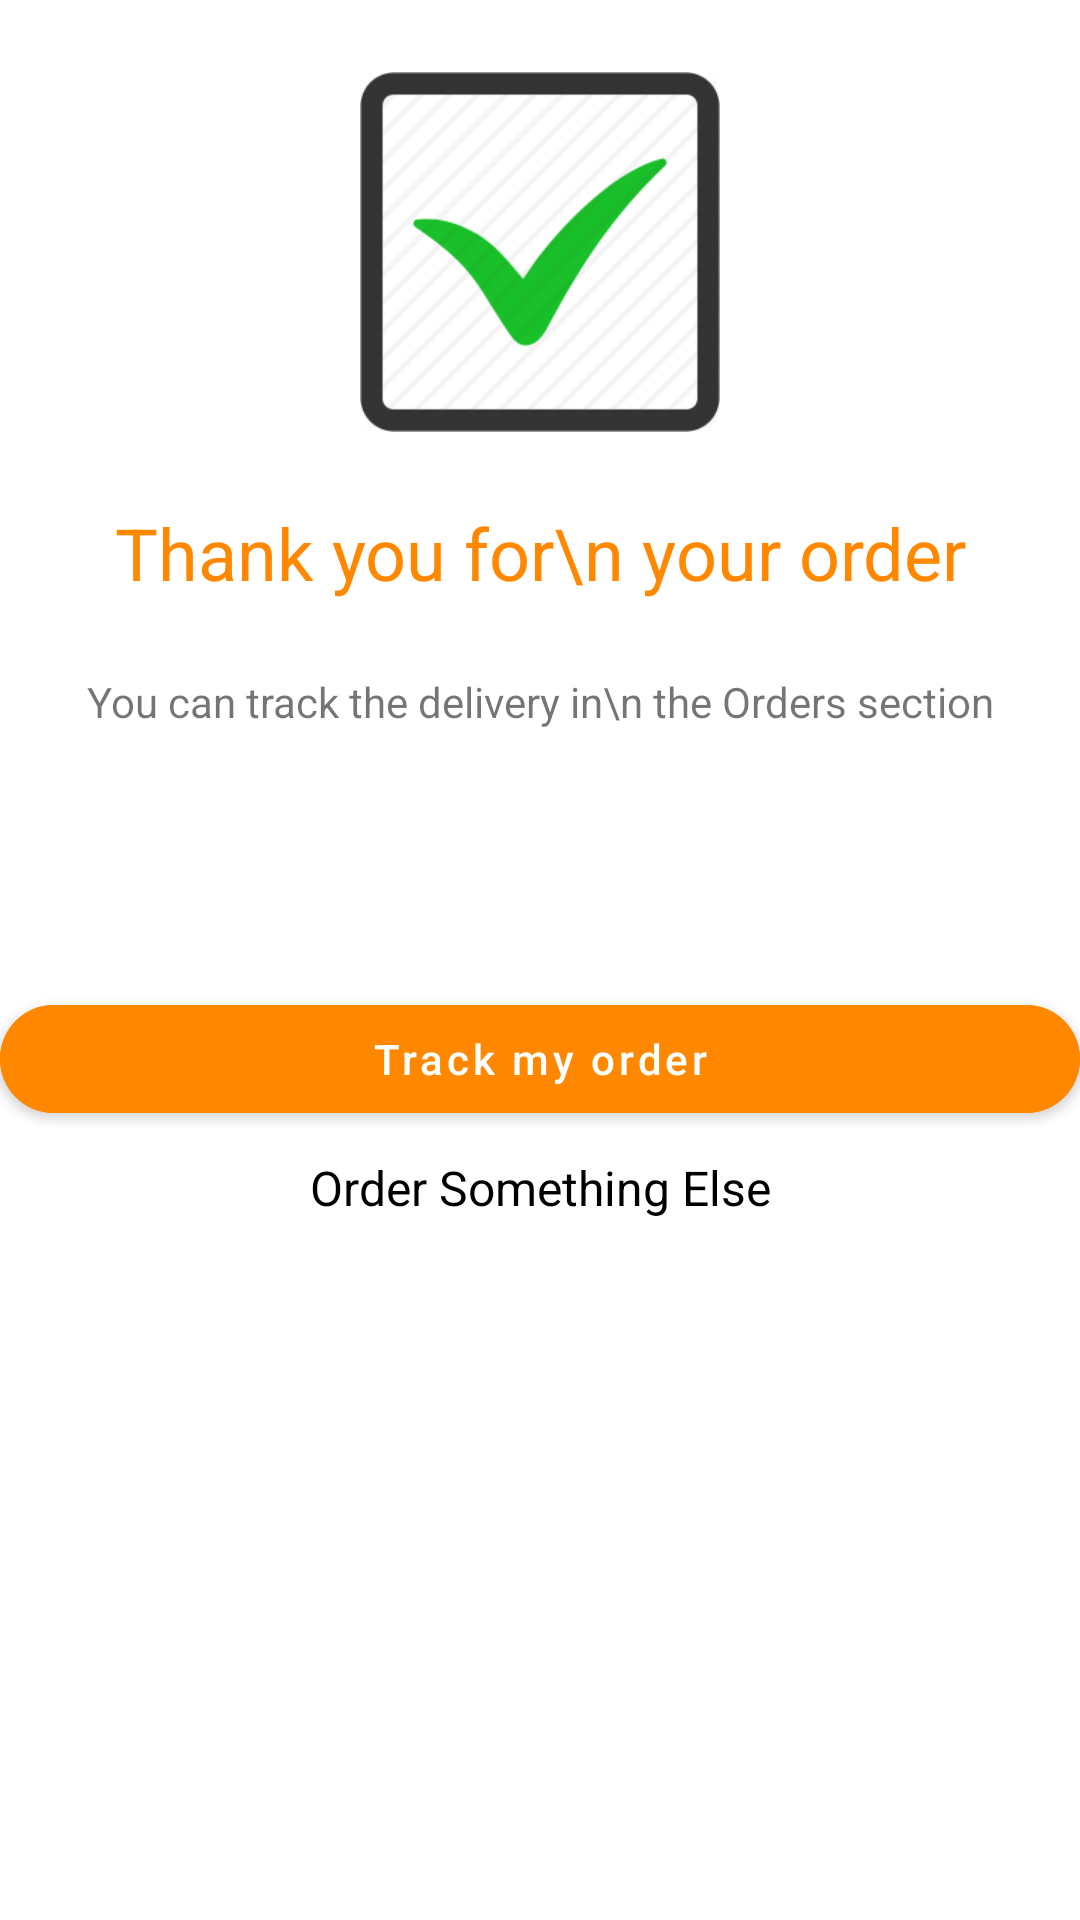

Screen size 1080×1920. Icon name, then its box in pixels as box(x1, y1, x2, y2):
order success: box(360, 72, 720, 432)
